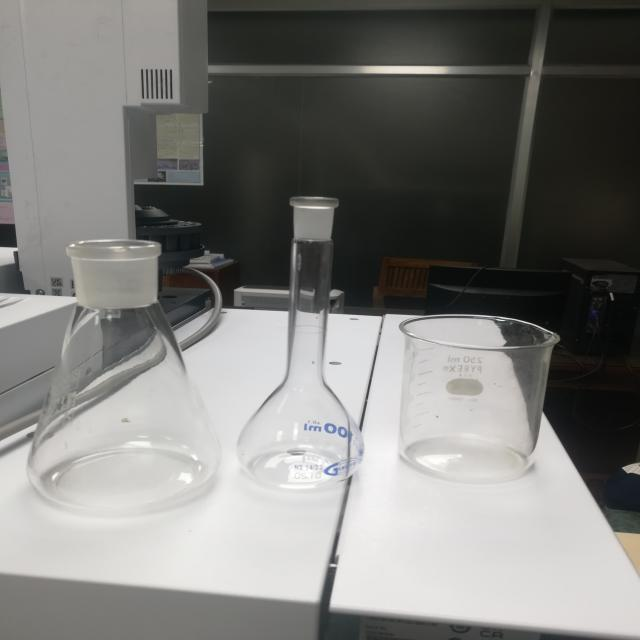Beaker: (385, 286, 578, 492)
Conical_Flask: (16, 202, 225, 541)
Volumetric_Flask: (248, 192, 370, 496)
